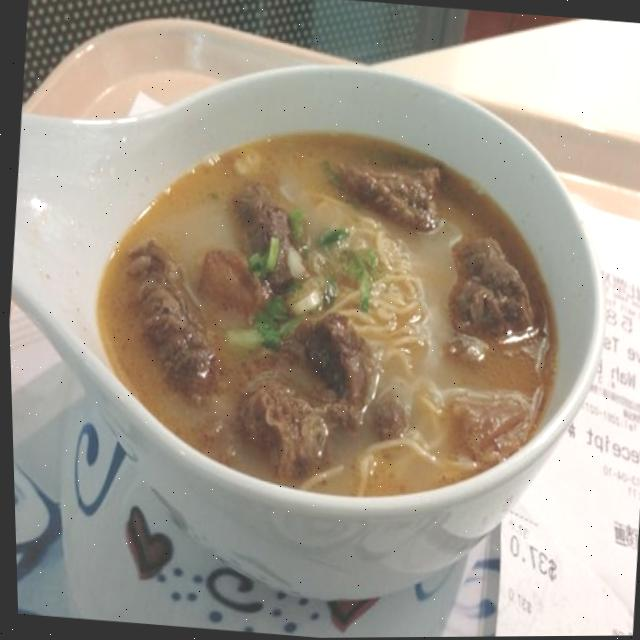面条主食: (63, 77, 591, 547)
